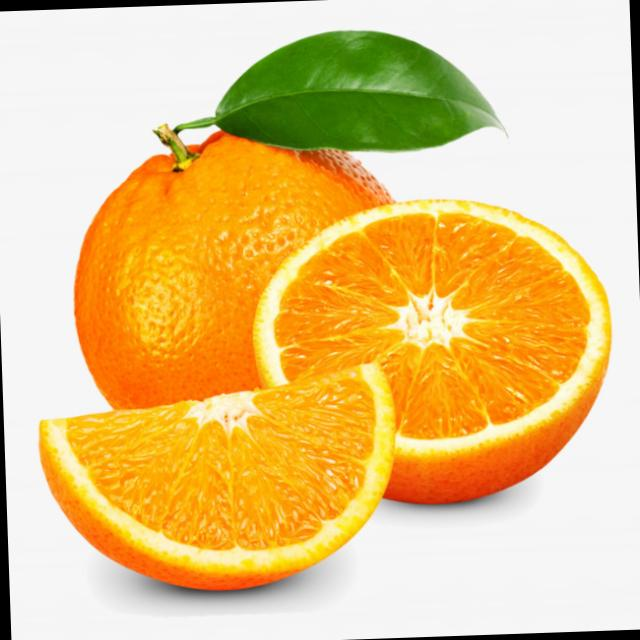orange: (52, 124, 412, 473)
